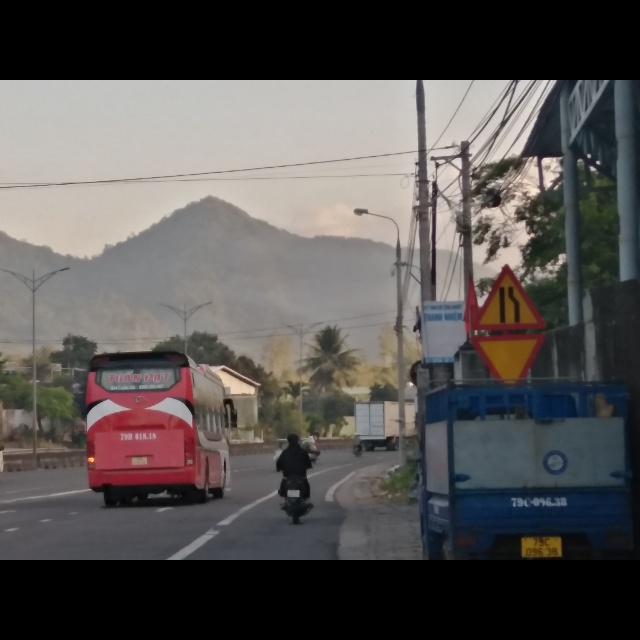Giao nhau với đường ưu tiên: (474, 334, 549, 384)
Đường bị hẹp bên phải: (471, 263, 546, 332)
